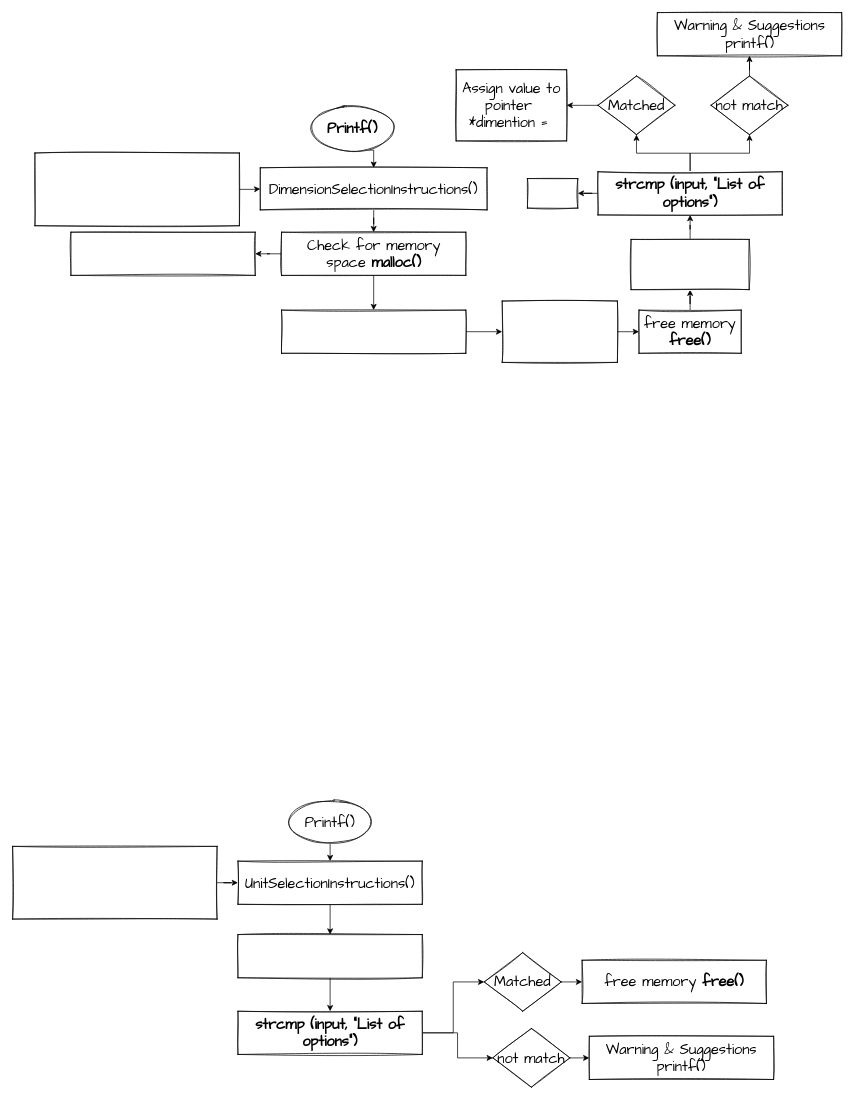
This 855x1100 diagram has some shape labels left out. The centre of each missing label's shape, as x and y in pixels:
"Check for memor y space malloc()" goes at (329,956).
"DimensionSelection (int dimension)" goes at (136,189).
"exit" goes at (552,193).
"fget(input, space_required, stdin)" goes at (373,331).
"NoMemoryAlert()" goes at (162,253).
"strdup(input) return pointer to string" goes at (559,331).
"tolower() convert to lowercase" goes at (689,264).
"UnitSelection (enum unit *unit)" goes at (114,882).
